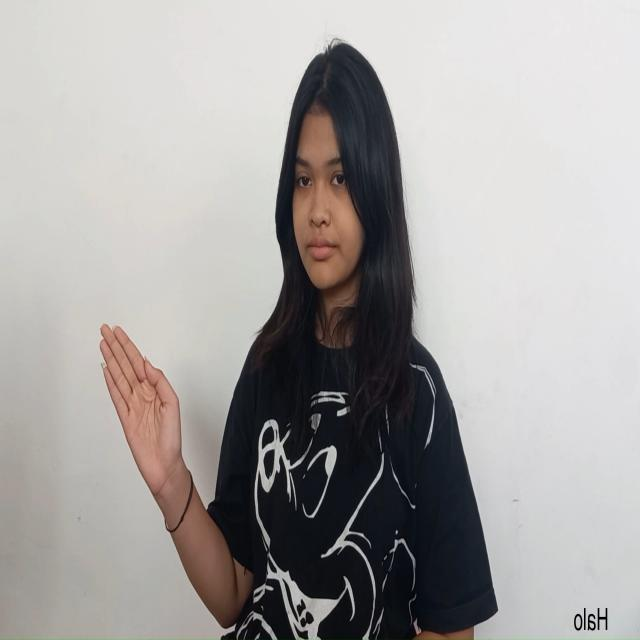Halo -BISINDO-: (100, 320, 184, 502)
